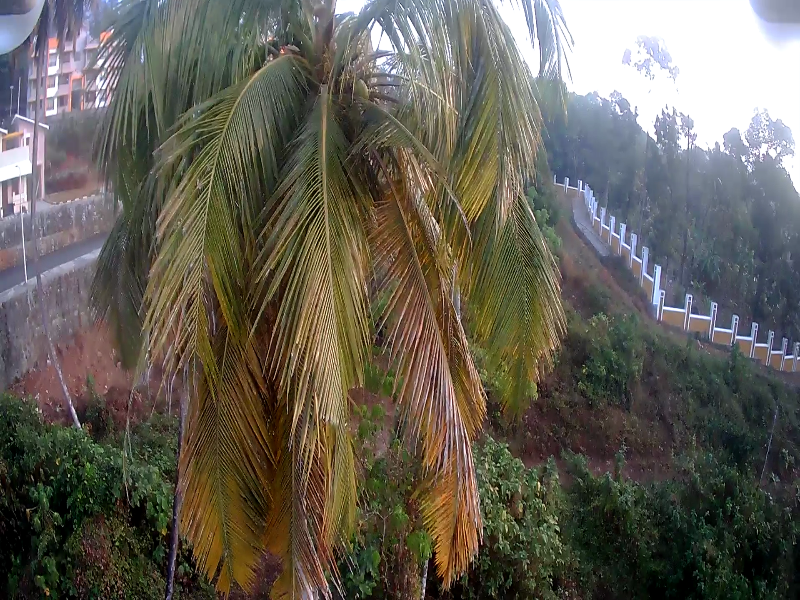coconut: (348, 78, 372, 100)
